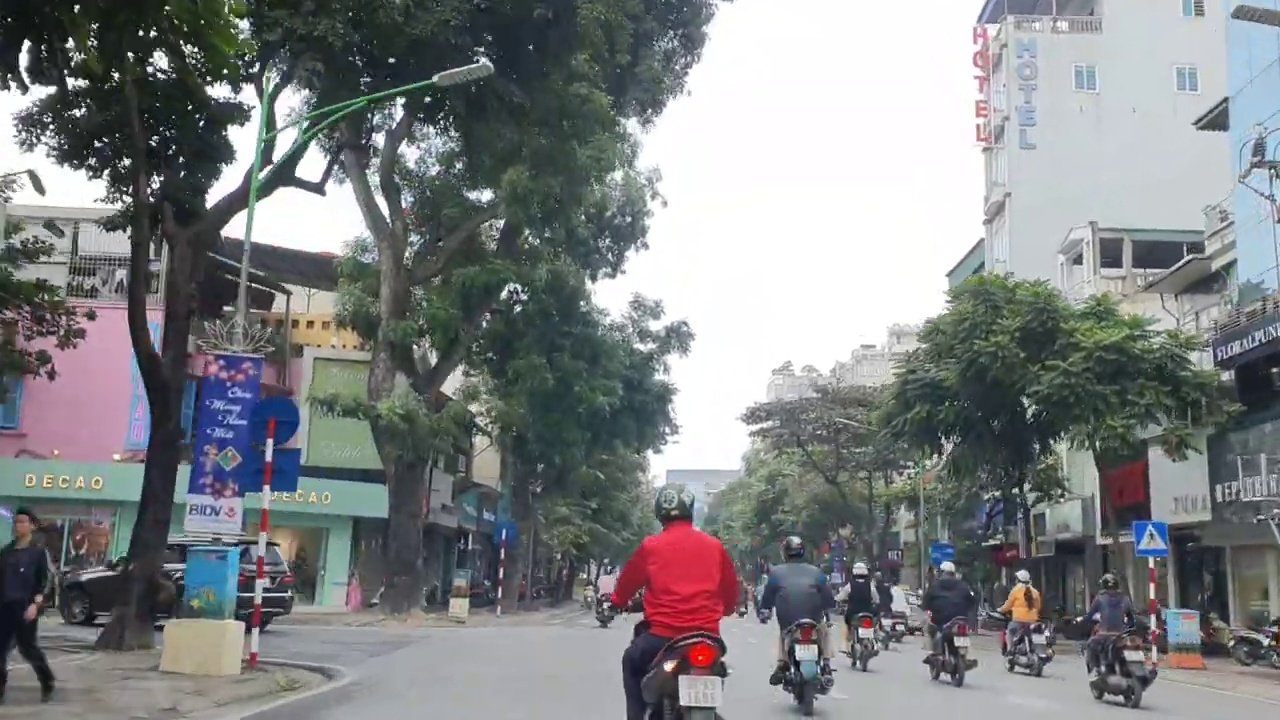vehicle-plate: (682, 673, 722, 705), (793, 642, 818, 660), (1121, 646, 1147, 660), (856, 624, 876, 637), (1029, 632, 1048, 645), (953, 633, 971, 646), (894, 622, 907, 630)
